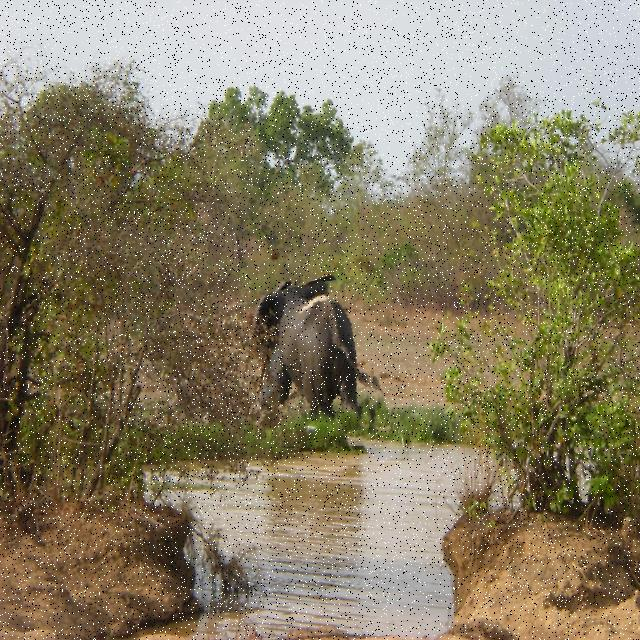elephant: (249, 281, 383, 449)
